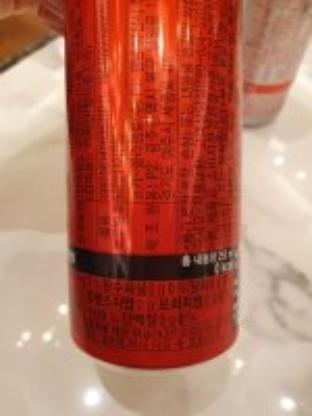Can: (60, 0, 244, 374)
